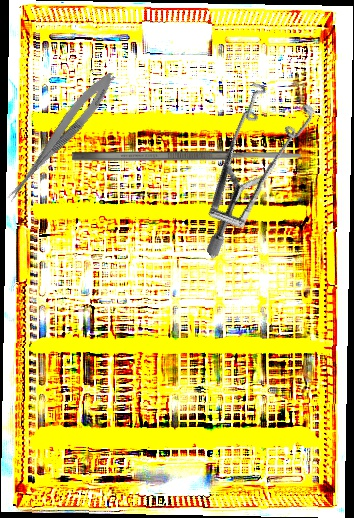Micro Scissor: (2, 66, 120, 209)
Spatula Surgical: (72, 150, 301, 162)
Speculum: (144, 63, 353, 260)
